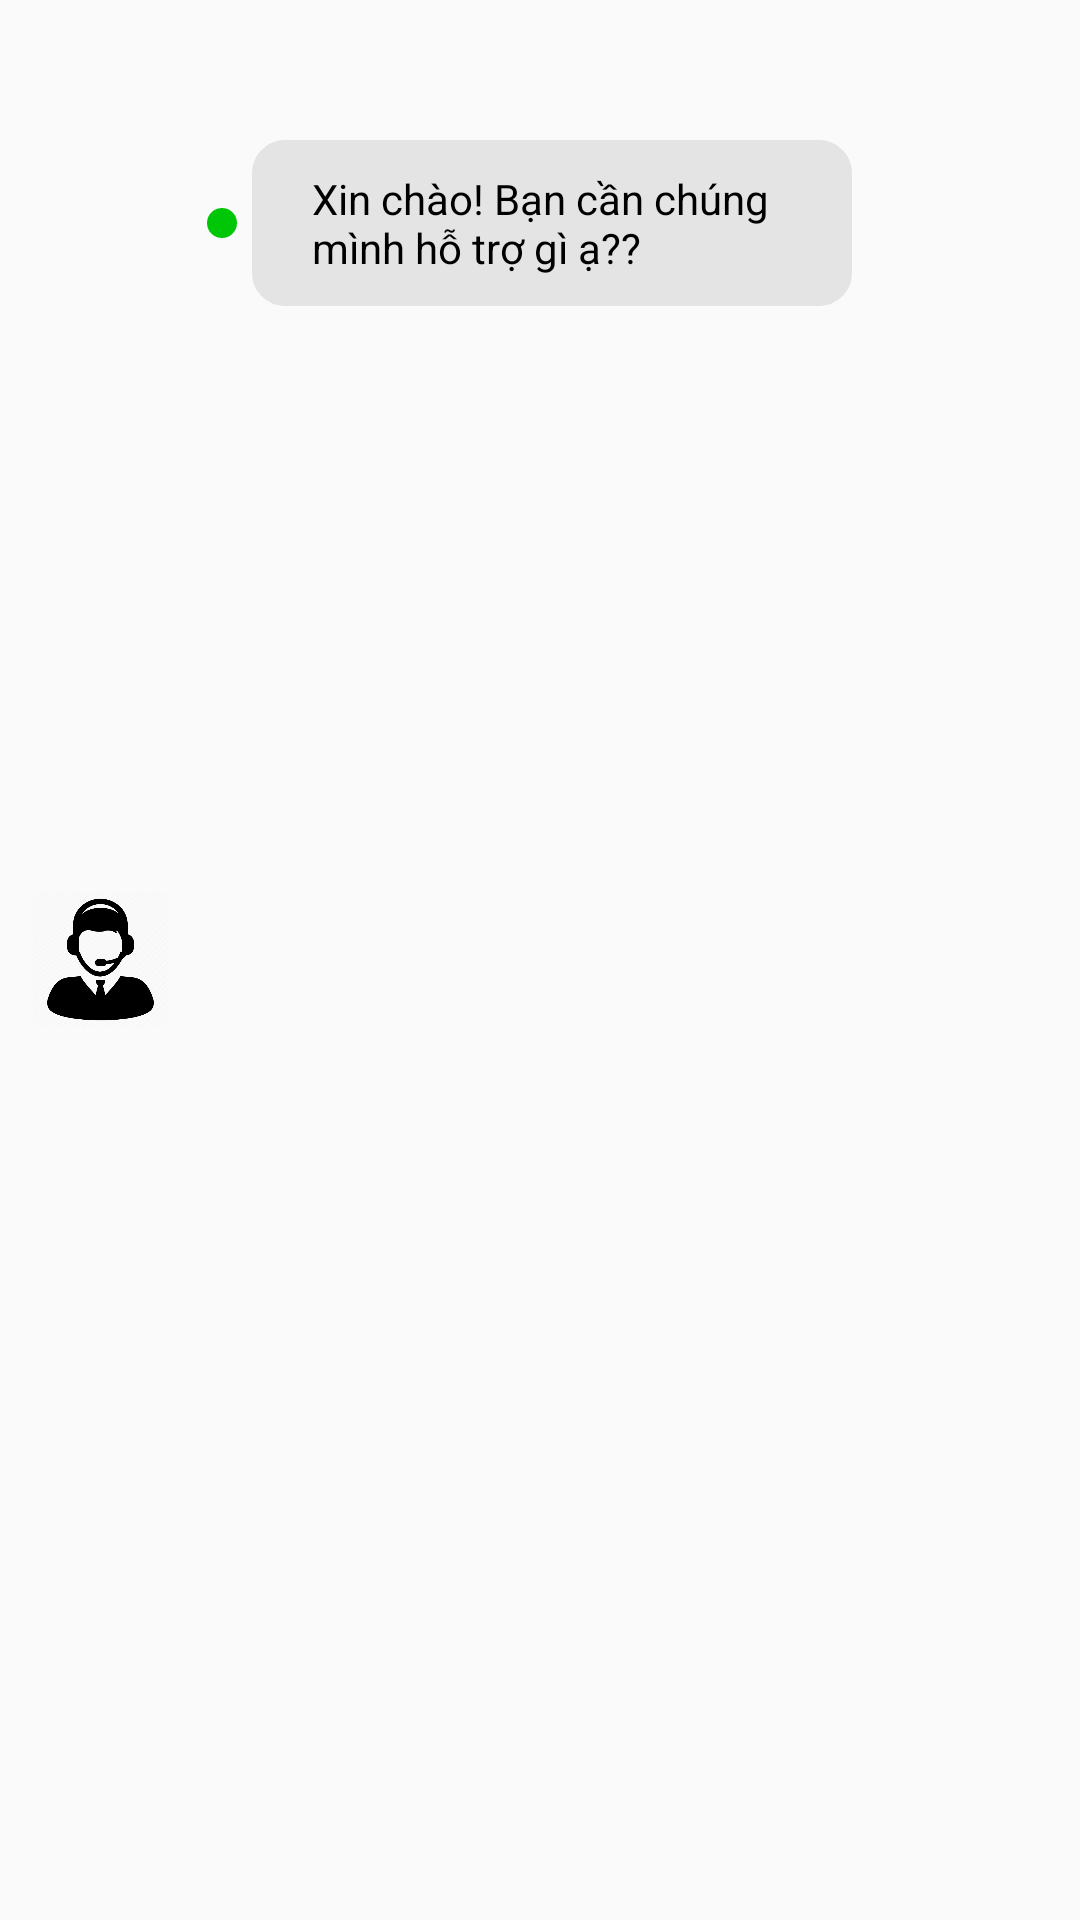

Named icons in this screenshot (1080w x 1920h) and their bounding boxes, (x1, y1, x2, y2):
support: (47, 899, 154, 1020)
